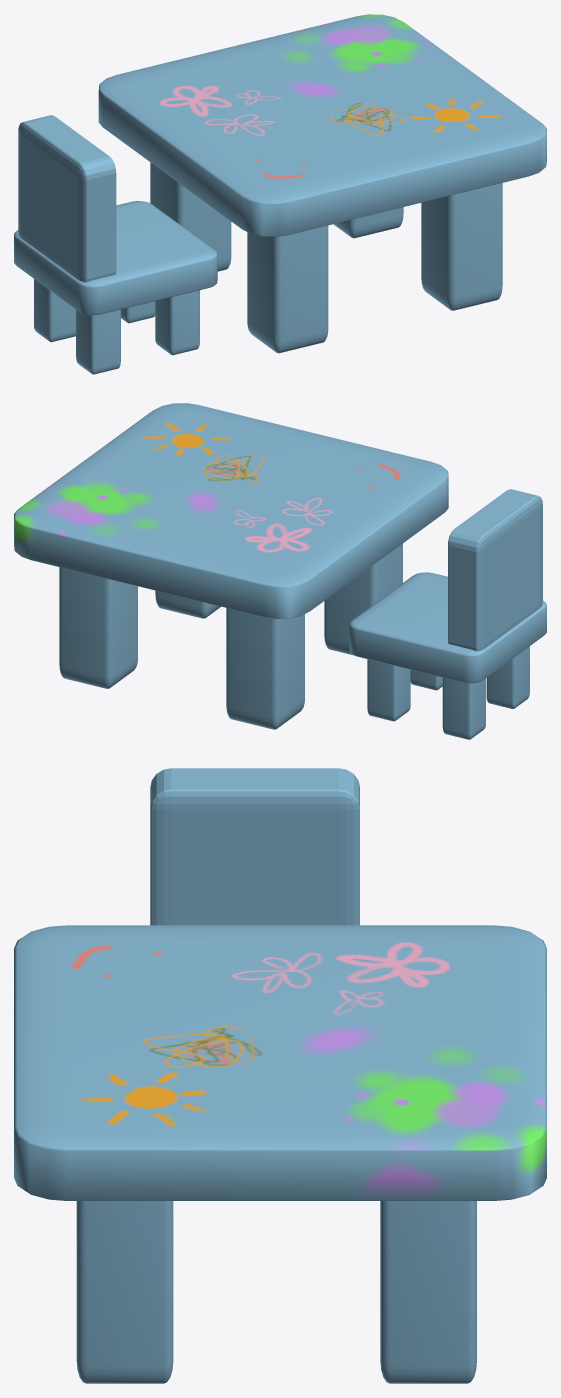
File: blautisch.fbx
The picture shows the model from 3 angles, top to bottom: view 1: azimuth 30°, elevation 25°; view 2: azimuth 150°, elevation 25°; view 3: azimuth 270°, elevation 25°; orthographic projection. The views are drawn at different scales.
Visible parts, largest first — view 1: stinkefuß, Bein1.001; view 2: stinkefuß, Bein1.001; view 3: stinkefuß, Bein1.001.
Part boxes in pixels (x1,y1,x2,y2): stinkefuß: (98, 14, 546, 353); Bein1.001: (14, 115, 217, 374); stinkefuß: (14, 403, 448, 729); Bein1.001: (349, 489, 546, 739); stinkefuß: (14, 925, 546, 1383); Bein1.001: (150, 768, 359, 925).
Bounding box in the file's own units: 289 × 135 × 200.
Materials: 2 (2 with a texture image).
